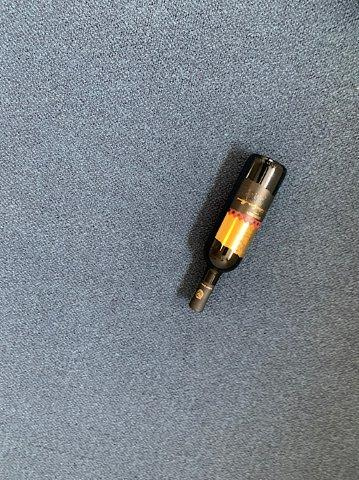botolkaca: (190, 155, 287, 319)
